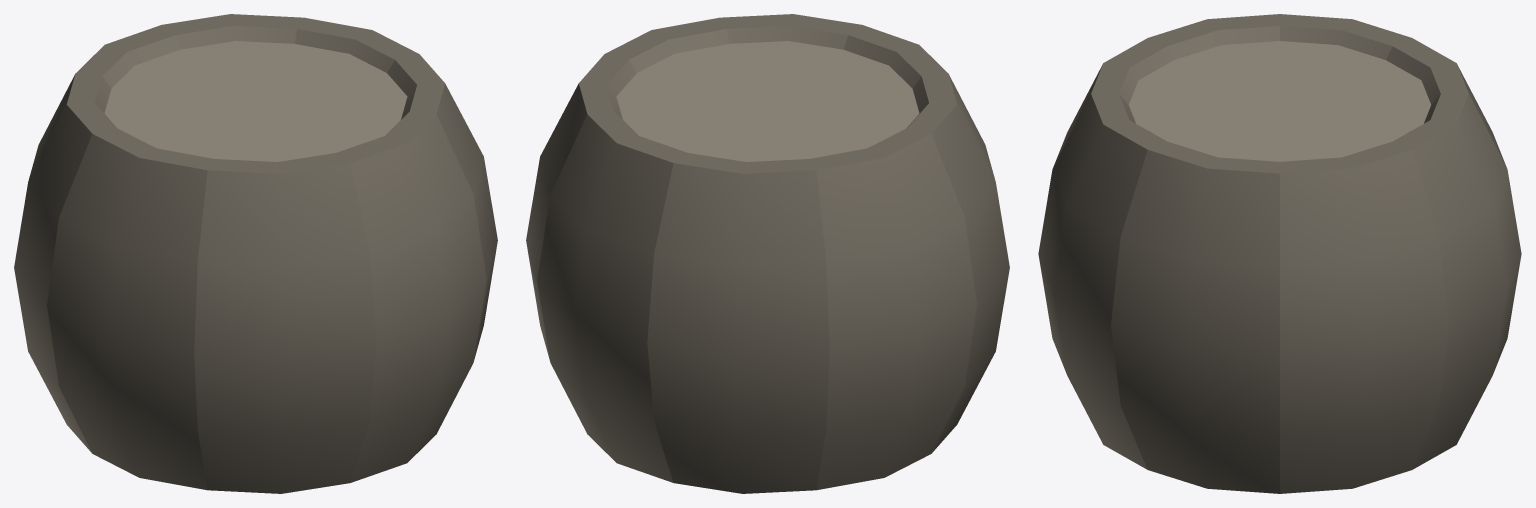
The model's file is barrel.fbx.
3 views of the same model, side by side, from view 1: azimuth 30°, elevation 25°; view 2: azimuth 150°, elevation 25°; view 3: azimuth 270°, elevation 25° (orthographic).
Parts seen in each view (by area): view 1: Cube-convcol; view 2: Cube-convcol; view 3: Cube-convcol.
Boxes of the visible parts, box(x1,y1,x2,y2) form: Cube-convcol: box(14, 14, 497, 493); Cube-convcol: box(526, 14, 1009, 493); Cube-convcol: box(1038, 14, 1521, 493).
Size of the model in its own units: 137 by 100 by 137.
